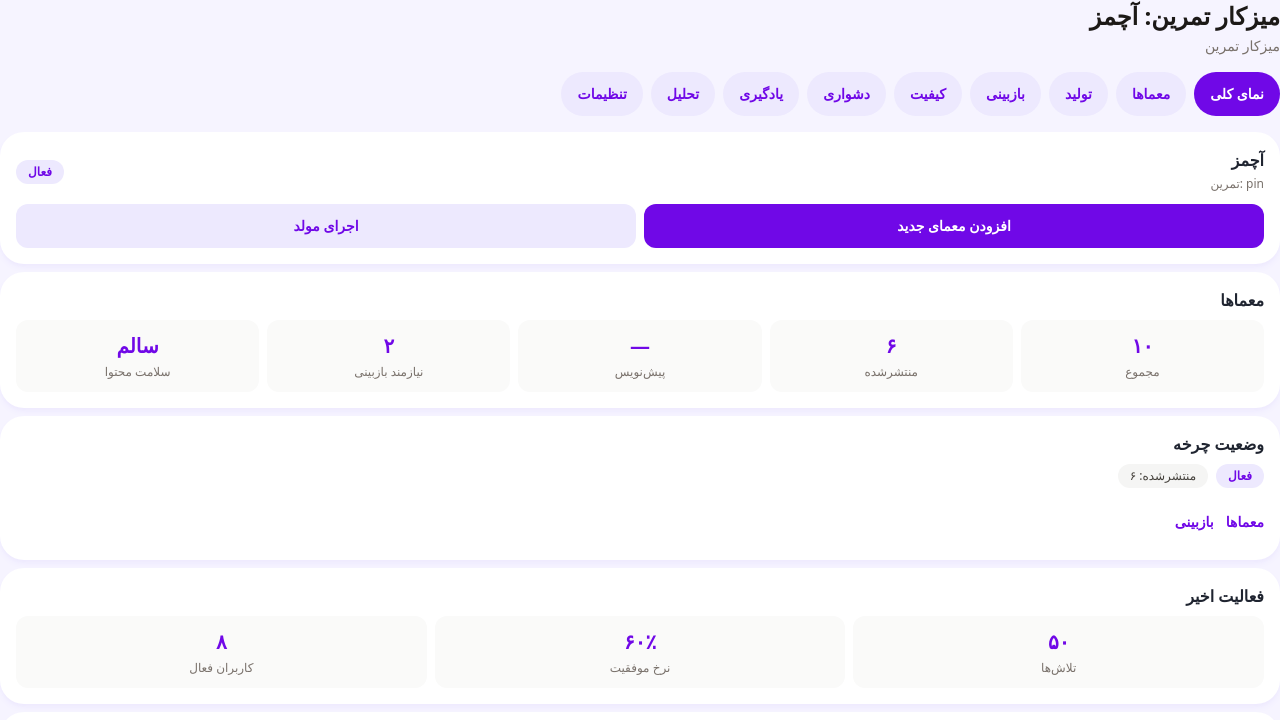
admin ops pages › exercise workspace renders overview tabs and analytics sections
Check: the heading "میزکار تمرین: آچمز" is shown, box [1090,0,1279,32]
Click the button "تحلیل" at (683, 94), box [651,72,715,116]
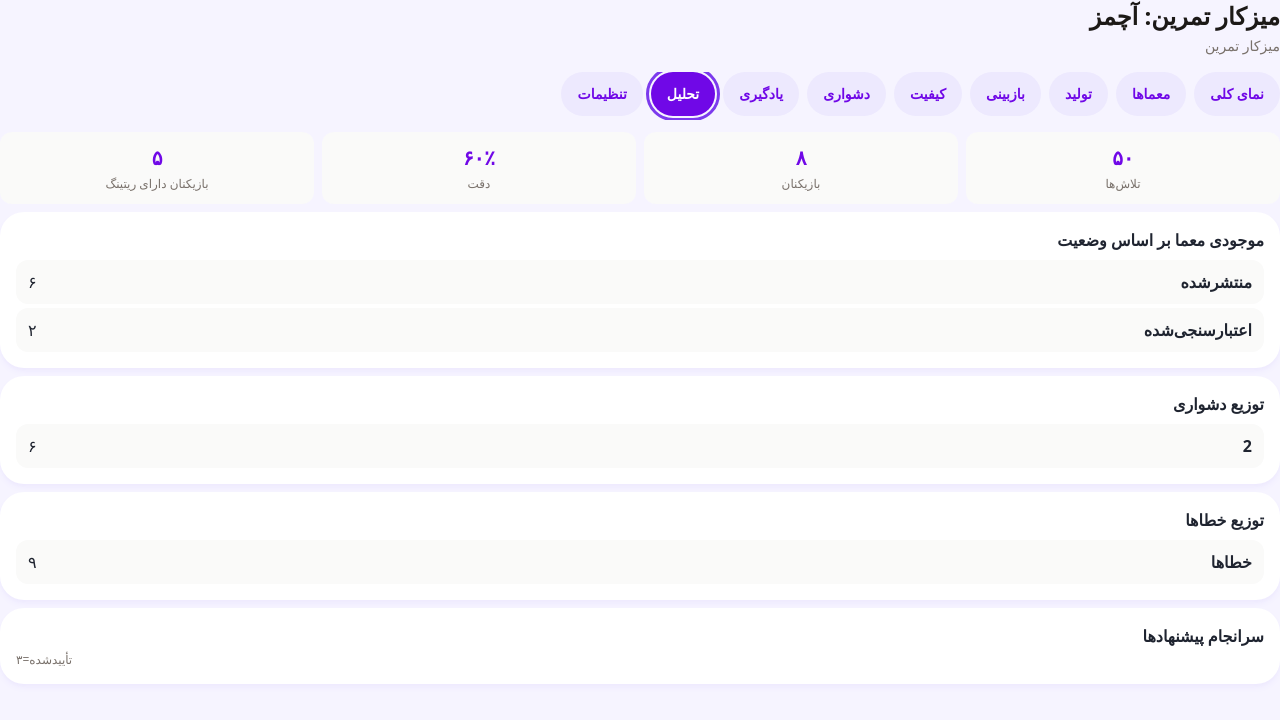
Check: the heading "موجودی معما بر اساس وضعیت" is shown, box [1057,229,1264,251]
Check: the heading "توزیع دشواری" is shown, box [1173,393,1264,415]
Check: the heading "توزیع خطاها" is shown, box [1185,509,1264,531]
